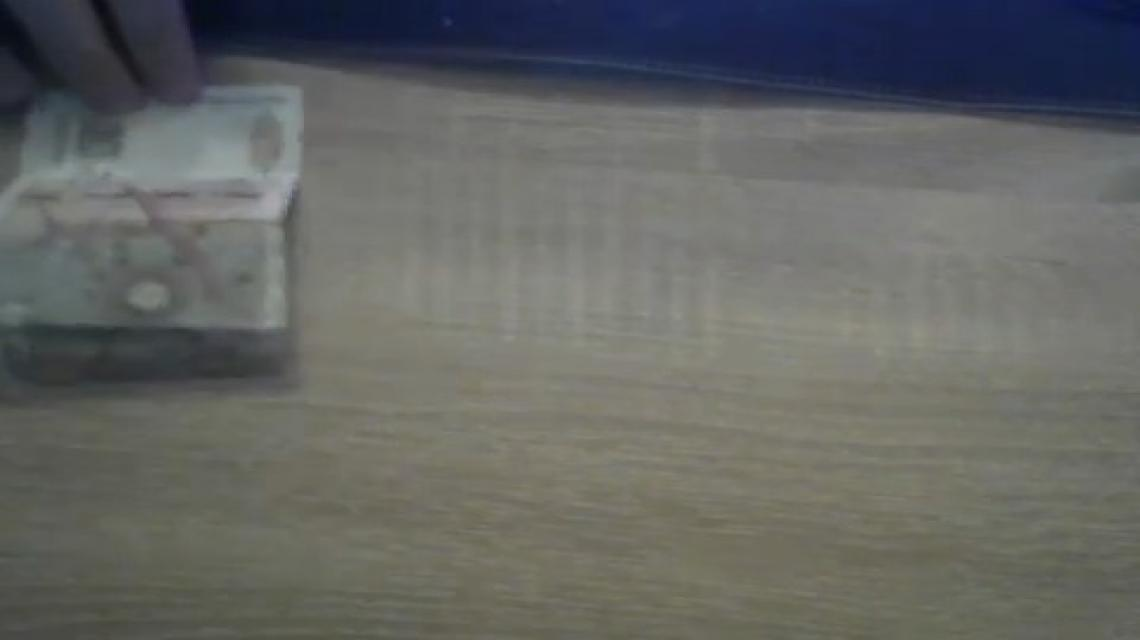10leva: (0, 84, 306, 384)
